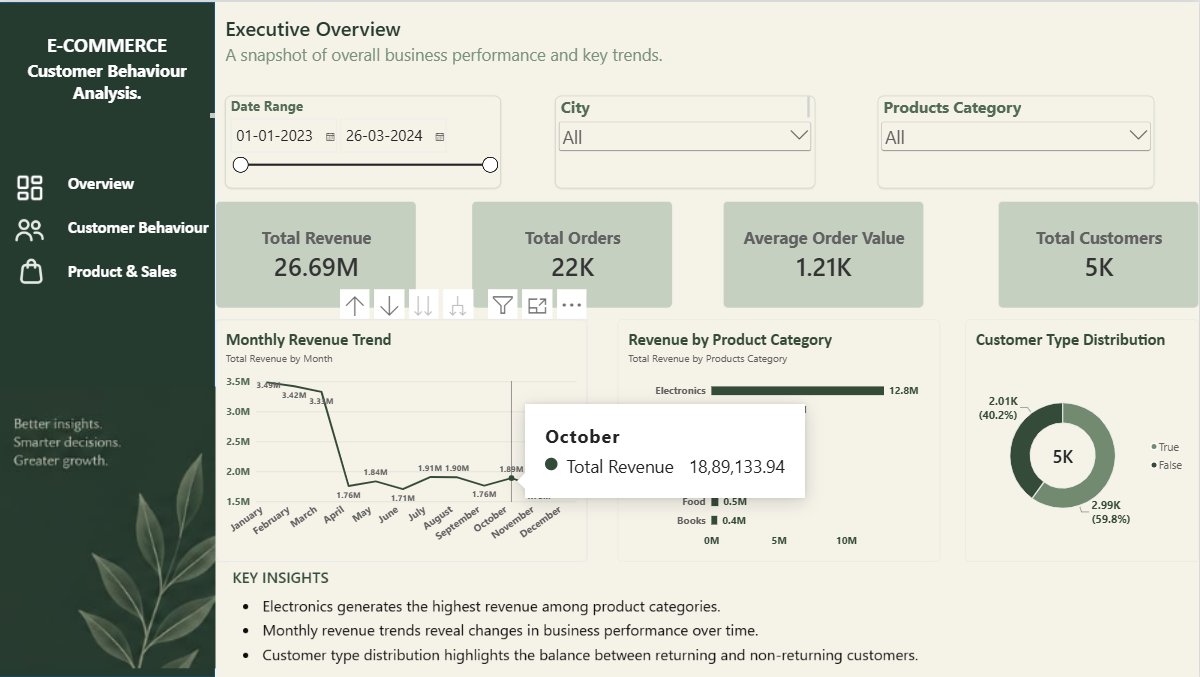

Layout of this report page (visuals, bound fields, positions):
{"tool":"powerbi","page":{"name":"Page 1","canvas":[1920,1080],"ordinal":0},"visuals":[{"type":"shape","box":[0,0,345.8,1080.6],"z":0},{"type":"textbox","title":"E-COMMERCE","box":[0,47.3,345.8,137.9],"z":1000},{"type":"textbox","title":"Overview","box":[109.1,273.8,164.7,47.3],"z":2000},{"type":"textbox","title":"Customer Behaviour","box":[109.1,343.7,253.2,39.1],"z":3000},{"type":"textbox","title":"Product & Sales","box":[109.1,413.7,228.5,43.2],"z":4000},{"type":"image","box":[24.7,273.8,49.4,47.3],"z":6000},{"type":"image","box":[18.5,343.7,63.8,43.2],"z":7000},{"type":"image","box":[14.4,403.4,74.1,53.5],"z":8000},{"type":"textbox","title":"Executive Overview","box":[362.3,20.6,716.3,129.7],"z":10000},{"type":"slicer","fields":{"Values":["Customer.City"]},"box":[890,150,415.8,148.2],"z":11000},{"type":"slicer","fields":{"Values":["Dim_Date.Date"]},"box":[362.3,150.3,440.5,148.2],"z":12000},{"type":"slicer","fields":{"Values":["Product.Products Category"]},"box":[1406,150,442.5,148.2],"z":13000},{"type":"cardVisual","fields":{"Data":["Ecommerce_Final.Total Revenue"]},"box":[346,318,322.5,172.5],"z":14000},{"type":"cardVisual","fields":{"Data":["Ecommerce_Final.Total Orders"]},"box":[756,318,322.5,172.5],"z":15000},{"type":"cardVisual","fields":{"Data":["Ecommerce_Final.Average Order Value"]},"box":[1158,318,322.5,172.5],"z":16000},{"type":"cardVisual","fields":{"Data":["Ecommerce_Final.Total Customers"]},"box":[1598,318,322.5,172.5],"z":17000},{"type":"lineChart","title":"Monthly Revenue Trend","fields":{"Category":["Dim_Date.Year Hierarchy.Year","Dim_Date.Year Hierarchy.Month"],"Y":["Ecommerce_Final.Total Revenue"]},"box":[346,508,595.4,387.3],"z":18000},{"type":"clusteredBarChart","title":"Revenue by Product Category","fields":{"Category":["Product.Products Category"],"Y":["Ecommerce_Final.Total Revenue"]},"box":[990,508,516,388],"z":19000},{"type":"donutChart","title":"Customer Type Distribution","fields":{"Category":["Customer.Is_Returning_Customer"],"Y":["CountNonNull(Customer.Customer_ID)"]},"box":[1546,508,374,388],"z":20000},{"type":"image","box":[0,602,346,478],"z":20001},{"type":"image","box":[252,896,1346,168],"z":20002}]}

Visuals, with their boxes in screenshot pixels (x1, y1, x2, y2), scaled from the page's 1920x1080 canvas onto the 1200x677 screenshot:
shape: left=0, top=0, right=216, bottom=676
"E-COMMERCE" textbox: left=0, top=30, right=216, bottom=116
"Overview" textbox: left=68, top=172, right=171, bottom=201
"Customer Behaviour" textbox: left=68, top=215, right=226, bottom=240
"Product & Sales" textbox: left=68, top=259, right=211, bottom=286
image: left=15, top=172, right=46, bottom=201
image: left=12, top=215, right=51, bottom=243
image: left=9, top=253, right=55, bottom=286
"Executive Overview" textbox: left=226, top=13, right=674, bottom=94
slicer - Customer.City: left=556, top=94, right=816, bottom=187
slicer - Dim_Date.Date: left=226, top=94, right=502, bottom=187
slicer - Product.Products Category: left=879, top=94, right=1155, bottom=187
cardVisual - Ecommerce_Final.Total Revenue: left=216, top=199, right=418, bottom=307
cardVisual - Ecommerce_Final.Total Orders: left=472, top=199, right=674, bottom=307
cardVisual - Ecommerce_Final.Average Order Value: left=724, top=199, right=925, bottom=307
cardVisual - Ecommerce_Final.Total Customers: left=999, top=199, right=1199, bottom=307
"Monthly Revenue Trend" lineChart: left=216, top=318, right=588, bottom=561
"Revenue by Product Category" clusteredBarChart: left=619, top=318, right=941, bottom=562
"Customer Type Distribution" donutChart: left=966, top=318, right=1199, bottom=562
image: left=0, top=377, right=216, bottom=676
image: left=158, top=562, right=999, bottom=667
